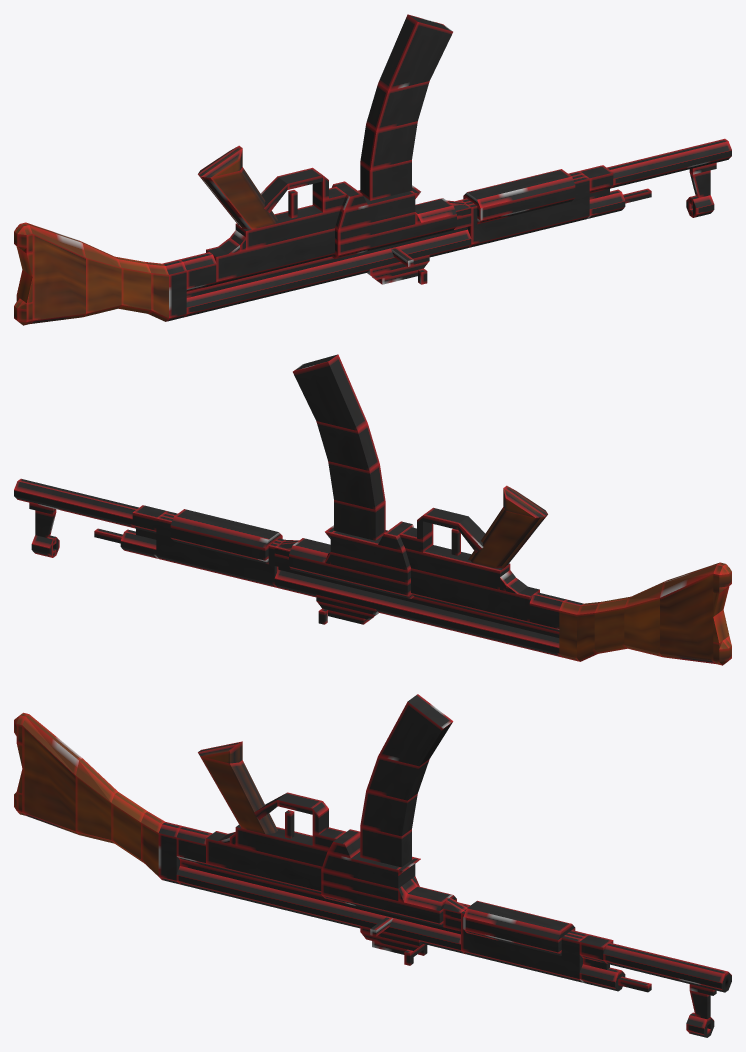
File: StG44.obj
The picture shows the model from 3 angles, top to bottom: view 1: azimuth 30°, elevation 25°; view 2: azimuth 150°, elevation 25°; view 3: azimuth 330°, elevation 25°; orthographic projection.
Visible parts, largest first — view 1: gunModel, defaultStockModel, ammoModel, defaultGripModel, defaultBarrelModel; view 2: gunModel, defaultStockModel, ammoModel, defaultGripModel, defaultBarrelModel; view 3: gunModel, defaultStockModel, ammoModel, defaultGripModel, defaultBarrelModel.
Boxes of the visible parts, x1=… form: gunModel: x1=180, y1=162, x2=716, y2=317; defaultStockModel: x1=14, y1=222, x2=186, y2=325; ammoModel: x1=360, y1=14, x2=452, y2=200; defaultGripModel: x1=198, y1=145, x2=277, y2=229; defaultBarrelModel: x1=607, y1=138, x2=731, y2=188; gunModel: x1=29, y1=502, x2=565, y2=657; defaultStockModel: x1=559, y1=562, x2=731, y2=665; ammoModel: x1=293, y1=354, x2=385, y2=540; defaultGripModel: x1=468, y1=485, x2=547, y2=568; defaultBarrelModel: x1=14, y1=478, x2=138, y2=528; gunModel: x1=176, y1=792, x2=716, y2=1037; defaultStockModel: x1=14, y1=712, x2=182, y2=884; ammoModel: x1=360, y1=694, x2=453, y2=867; defaultGripModel: x1=198, y1=741, x2=277, y2=834; defaultBarrelModel: x1=603, y1=942, x2=731, y2=992.
Size of the model in its own units: 120 by 43 by 8.
